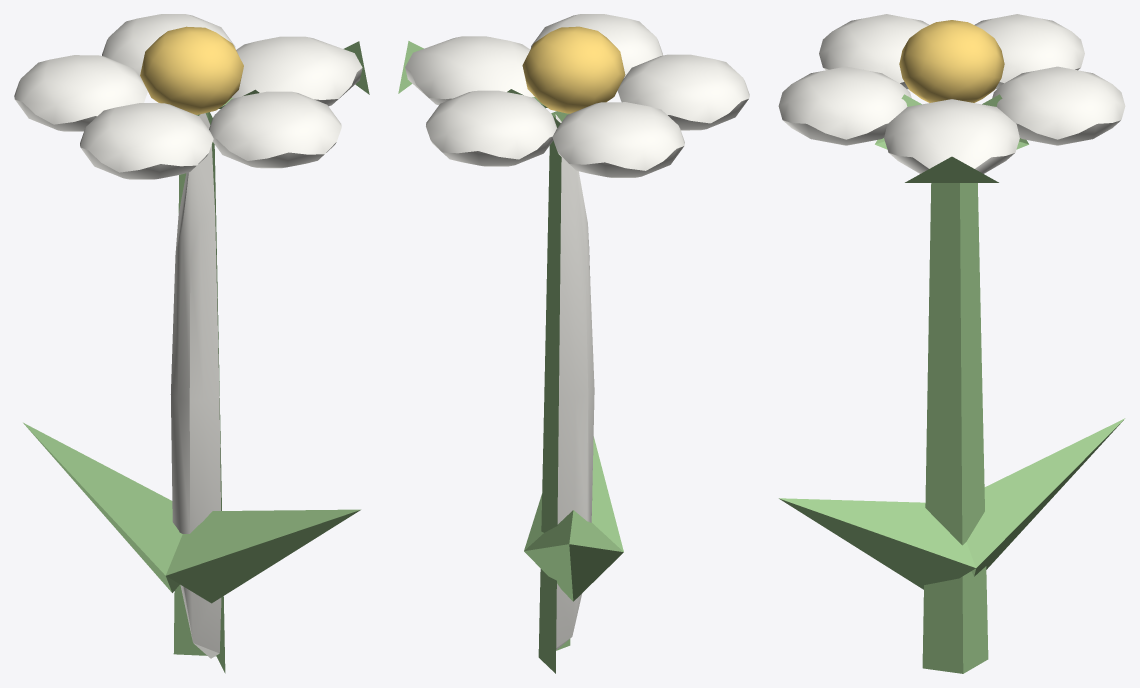
File: FlowerWhite.fbx
3 renders of one model, left to right at view 1: azimuth 30°, elevation 25°; view 2: azimuth 150°, elevation 25°; view 3: azimuth 270°, elevation 25°, orthographic.
Parts seen in each view (by area): view 1: FlowerWhite; view 2: FlowerWhite; view 3: FlowerWhite.
Boxes of the visible parts, x1,y1,x2,y2 form: FlowerWhite: (14, 14, 369, 673); FlowerWhite: (398, 14, 749, 673); FlowerWhite: (778, 14, 1125, 673).
Bounding box in the file's own units: 0.1729 × 0.3458 × 0.1721.
